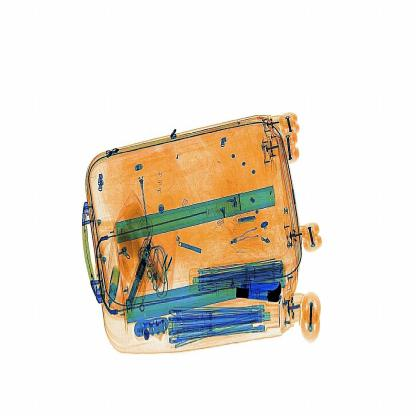knife: (234, 278, 288, 305)
